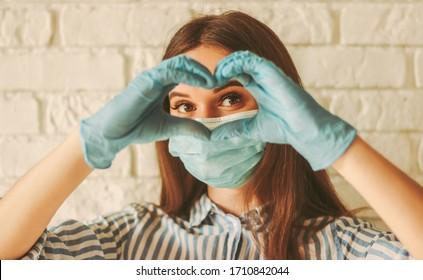gloves: (215, 49, 356, 169), (79, 55, 214, 170)
